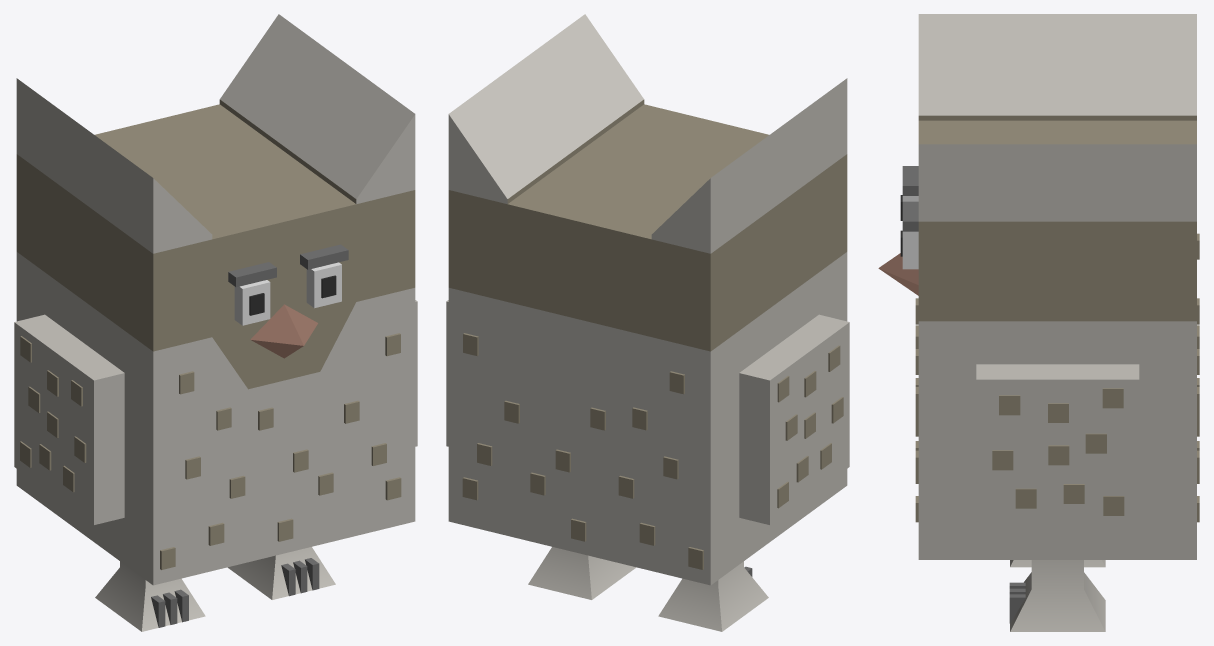
Rendered from 090 Owl.fbx.
3 renders of one model, left to right at view 1: azimuth 30°, elevation 25°; view 2: azimuth 150°, elevation 25°; view 3: azimuth 270°, elevation 25°, orthographic.
Visible parts, largest first — view 1: Lowpoly_Christmas_Pack_090:group2; view 2: Lowpoly_Christmas_Pack_090:group2; view 3: Lowpoly_Christmas_Pack_090:group2.
Part boxes in pixels (bbox=[...]): Lowpoly_Christmas_Pack_090:group2: bbox=[14, 14, 417, 631]; Lowpoly_Christmas_Pack_090:group2: bbox=[446, 14, 849, 631]; Lowpoly_Christmas_Pack_090:group2: bbox=[878, 14, 1199, 631].
Size of the model in its own units: 1.38 by 2 by 1.15.
